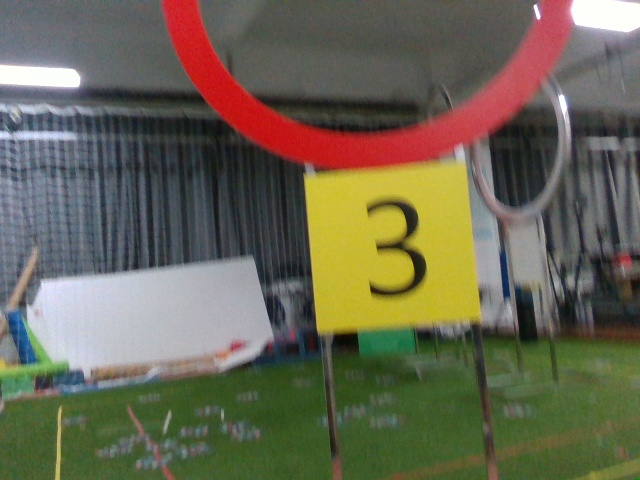target: (315, 174, 477, 318)
